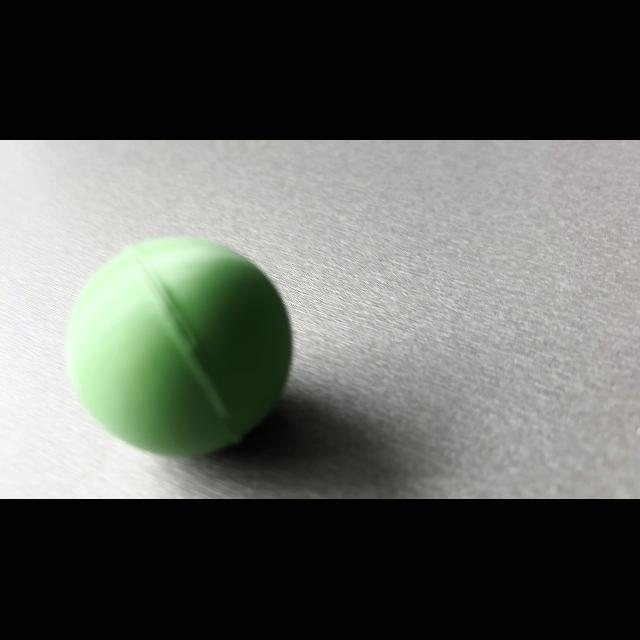objects: (57, 225, 307, 465)
